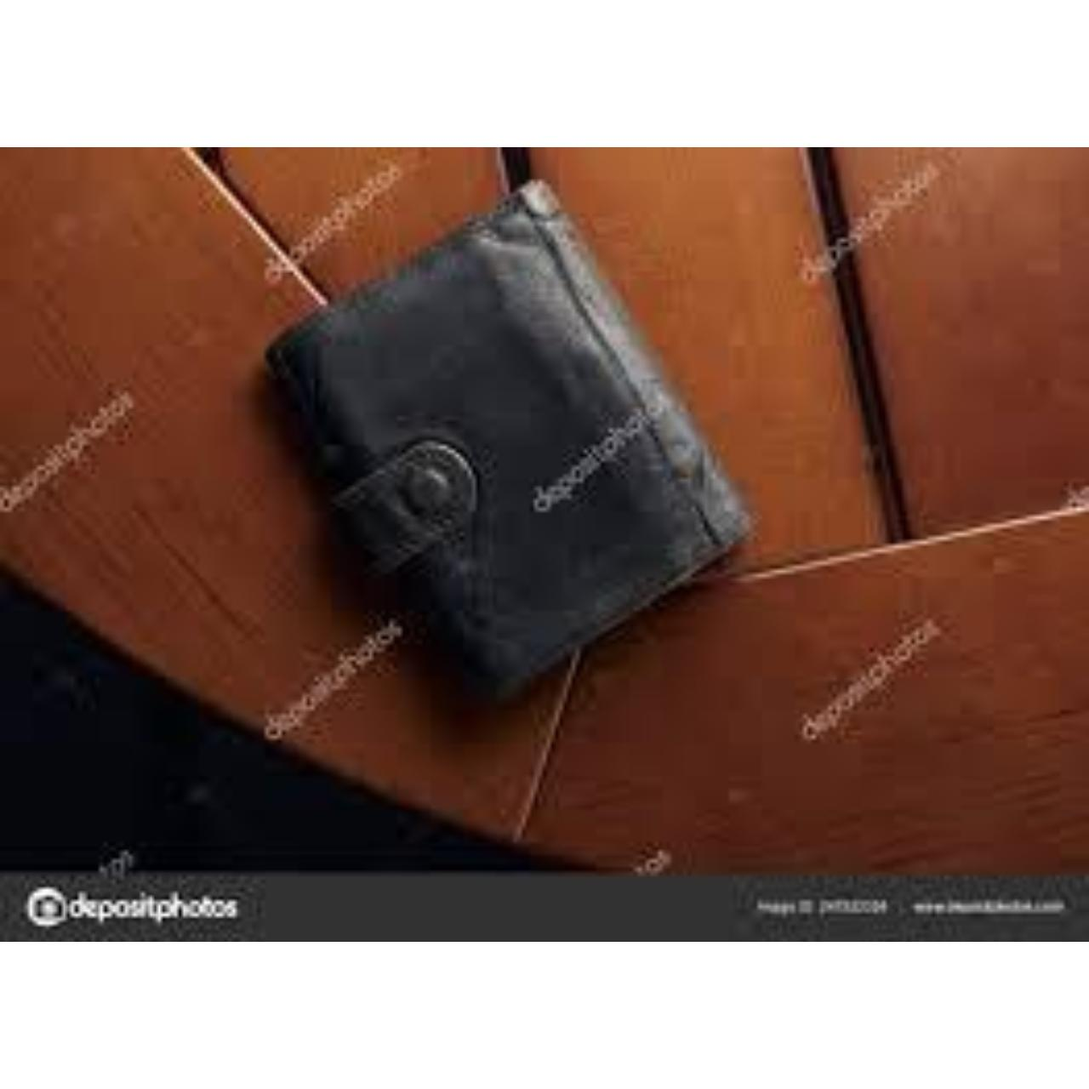wallet: (178, 180, 886, 710)
